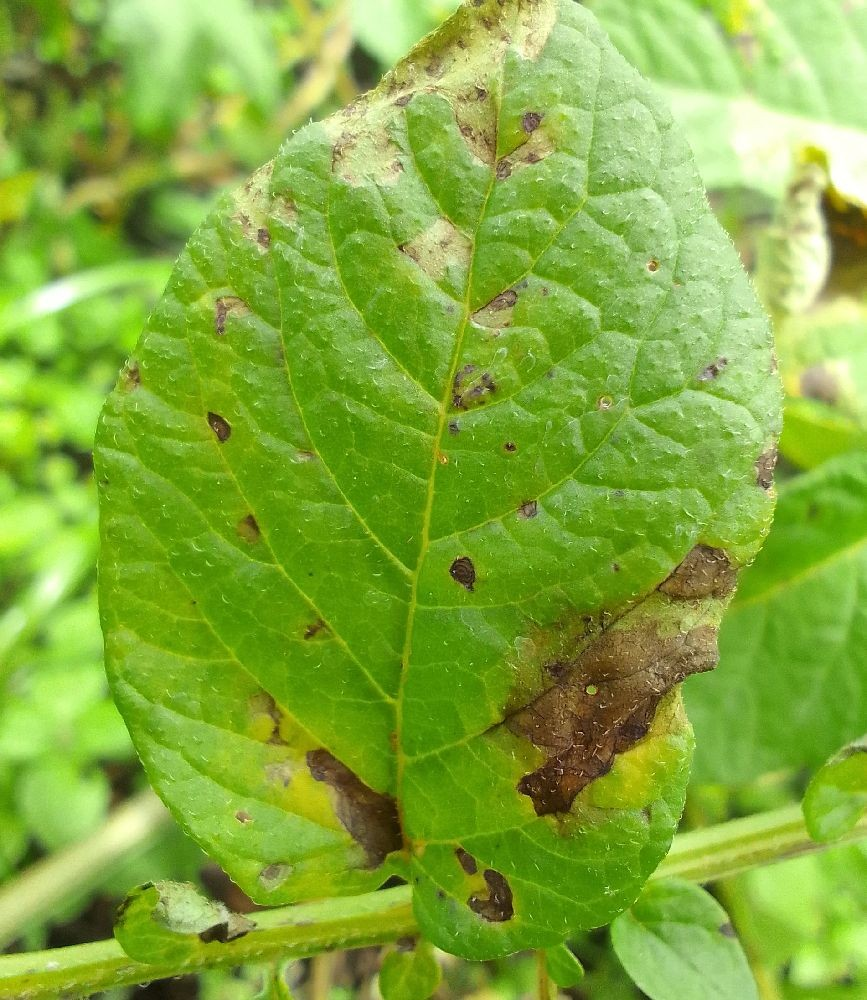late_blight: (485, 525, 758, 847), (291, 733, 428, 885), (279, 914, 438, 1000), (799, 178, 867, 323)
